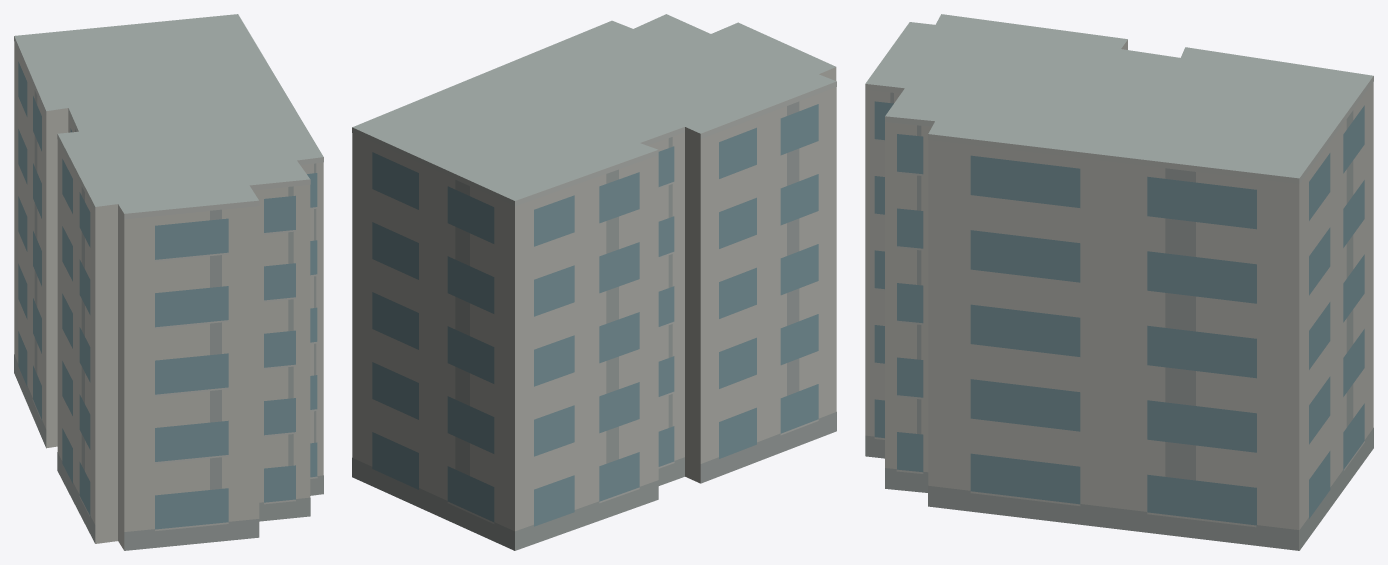
The model's file is survey-upis-32573612.glb.
The picture shows the model from 3 angles, left to right: view 1: azimuth 30°, elevation 25°; view 2: azimuth 150°, elevation 25°; view 3: azimuth 270°, elevation 25°; orthographic projection. The views are drawn at different scales.
Parts seen in each view (by area): view 1: survey-upis-32573612.tmp; view 2: survey-upis-32573612.tmp; view 3: survey-upis-32573612.tmp.
Part boxes in pixels (box(x1,y1,x2,y2)): survey-upis-32573612.tmp: box(14, 14, 323, 550); survey-upis-32573612.tmp: box(352, 14, 836, 550); survey-upis-32573612.tmp: box(865, 14, 1373, 550).
Bounding box in the file's own units: 14.58 × 15.4 × 19.06.
